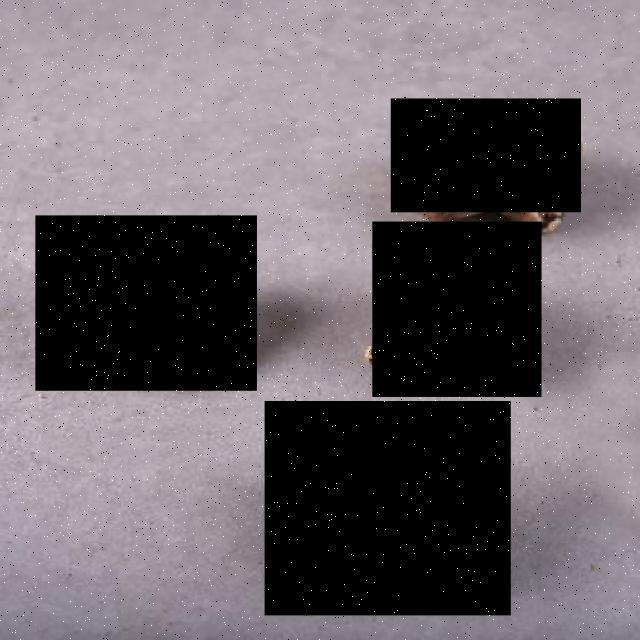Mushroom: (265, 401, 510, 616), (36, 215, 258, 391), (373, 221, 541, 397), (391, 98, 580, 213)
